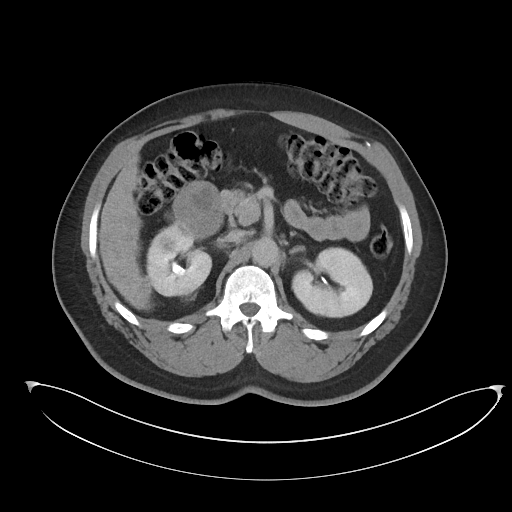Lesion: (170, 178, 226, 243)
